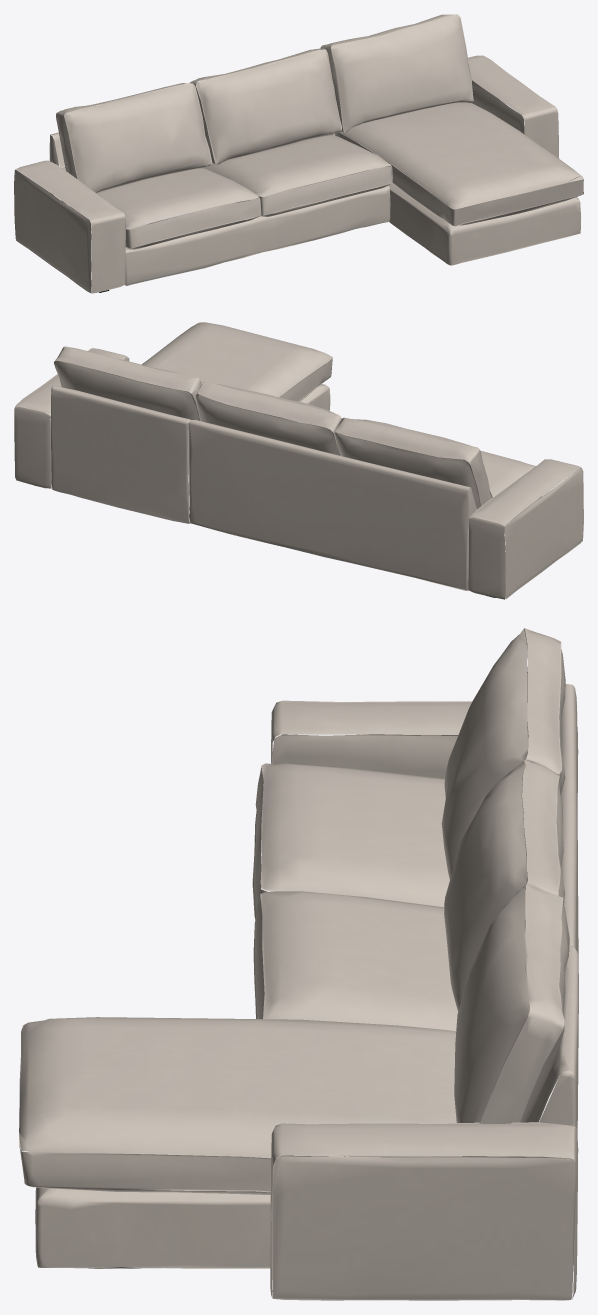
Rendered from kivikTresundChaise.glb.
The picture shows the model from 3 angles, top to bottom: view 1: azimuth 30°, elevation 25°; view 2: azimuth 150°, elevation 25°; view 3: azimuth 270°, elevation 25°; orthographic projection. The views are drawn at different scales.
Visible parts, largest first — view 1: Mesh_0; view 2: Mesh_0; view 3: Mesh_0.
Part boxes in pixels (bbox=[...]): Mesh_0: bbox=[14, 14, 583, 293]; Mesh_0: bbox=[14, 322, 583, 599]; Mesh_0: bbox=[19, 628, 578, 1300].
Size of the model in its own units: 3.18 by 0.8658 by 1.64.
2 materials, 2 textured.
